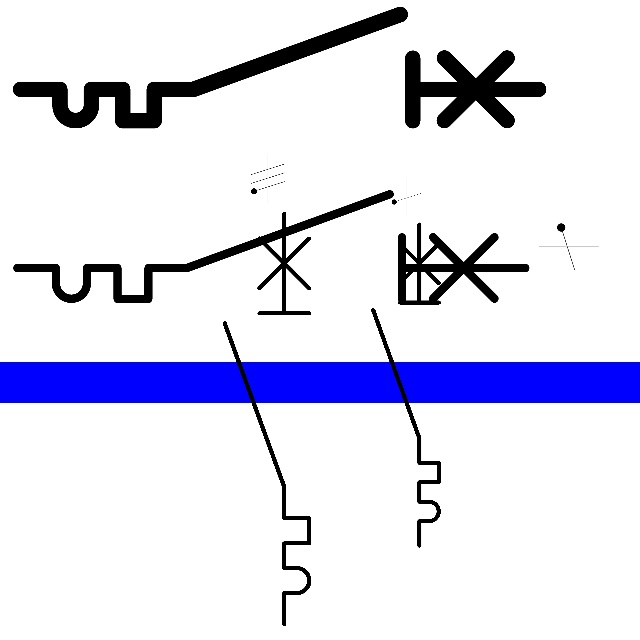interruptor_termomagnetico: (7, 1, 552, 134), (4, 181, 538, 312), (214, 202, 320, 634), (365, 216, 447, 554)
